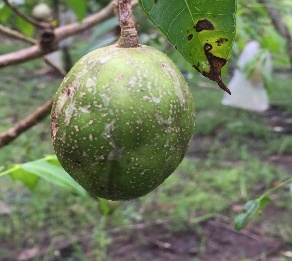Coc: (50, 42, 195, 202)
